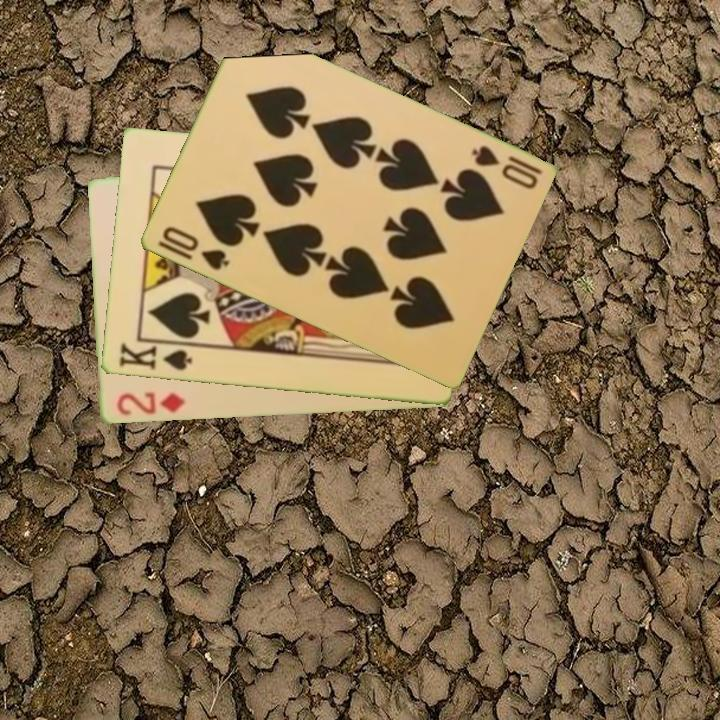10s: (467, 142, 545, 193), (158, 223, 232, 274)
2d: (113, 389, 188, 419)
Ks: (115, 338, 197, 374)
